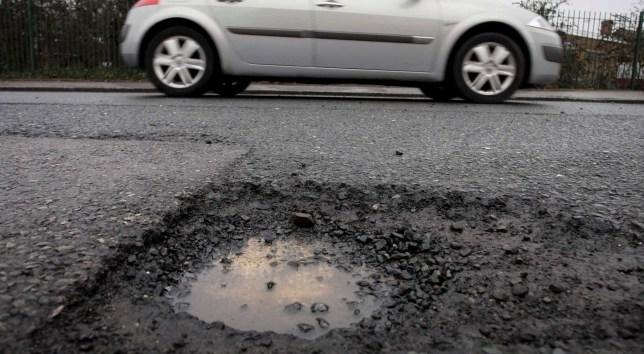Pothole: (71, 156, 635, 353)
